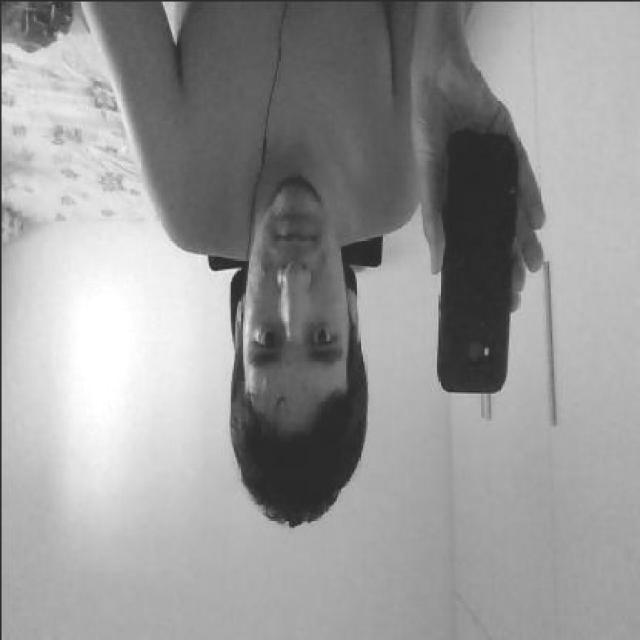fake: (434, 138, 517, 396)
real: (238, 171, 355, 432)
